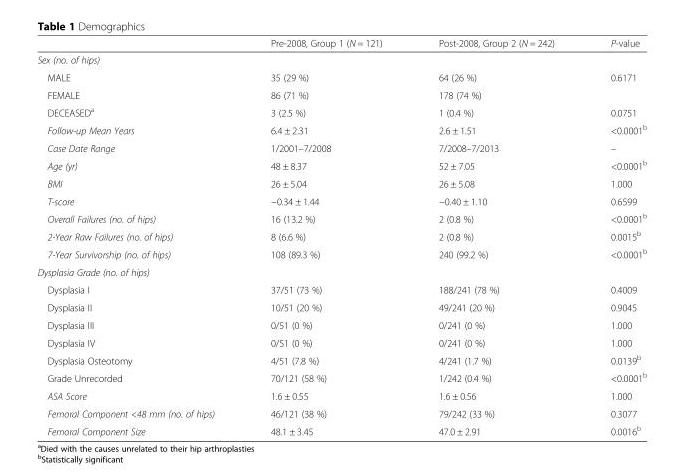table: (36, 37, 646, 436)
table column: (36, 37, 241, 436), (409, 37, 582, 436), (241, 37, 409, 436), (582, 37, 646, 436)
table column header: (36, 37, 646, 51)
table projected row header: (36, 262, 646, 280), (36, 51, 646, 68)
table row: (36, 120, 646, 139), (36, 155, 646, 174), (36, 102, 646, 120), (36, 191, 646, 209), (36, 226, 646, 244), (36, 244, 646, 262), (36, 262, 646, 280), (36, 280, 646, 298), (36, 298, 646, 316), (36, 350, 646, 368), (36, 368, 646, 386), (36, 386, 646, 404), (36, 51, 646, 68), (36, 68, 646, 85), (36, 85, 646, 102), (36, 174, 646, 191), (36, 209, 646, 226), (36, 316, 646, 333), (36, 333, 646, 350), (36, 404, 646, 421), (36, 139, 646, 155), (36, 421, 646, 436), (36, 37, 646, 51)
table spanning cell: (582, 68, 646, 102)
